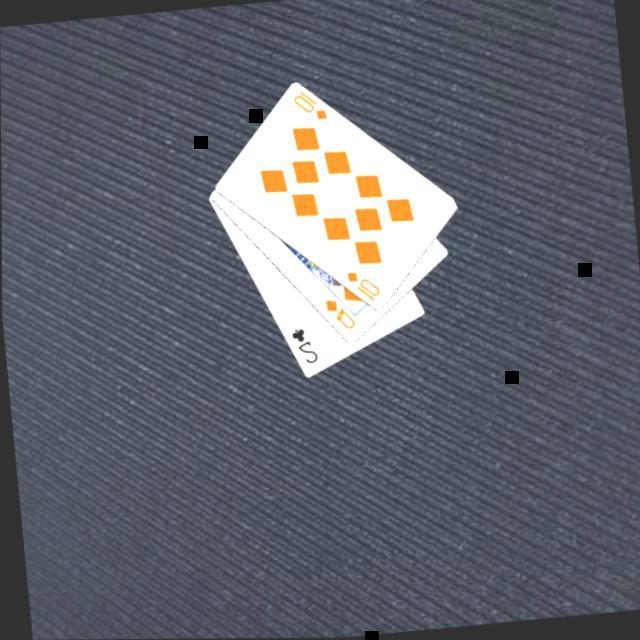10D: (286, 84, 328, 125), (340, 265, 381, 306)
2C: (284, 322, 319, 368)
QD: (318, 293, 356, 334)
